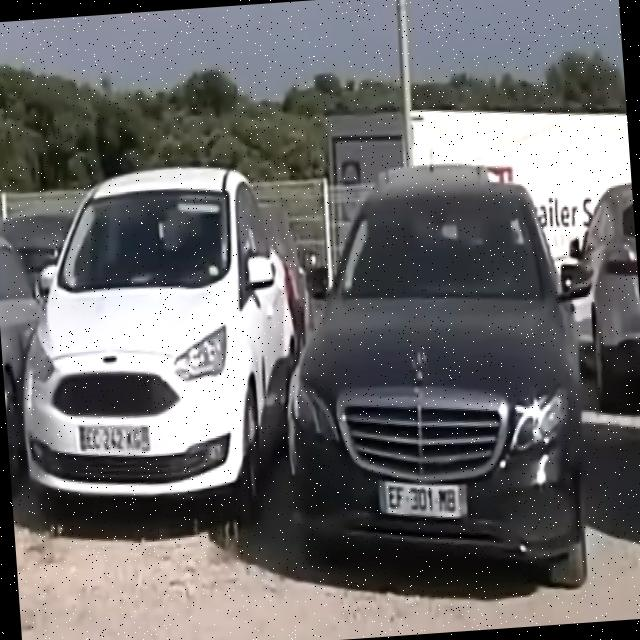Autre: (376, 472, 477, 528), (74, 420, 150, 452)
